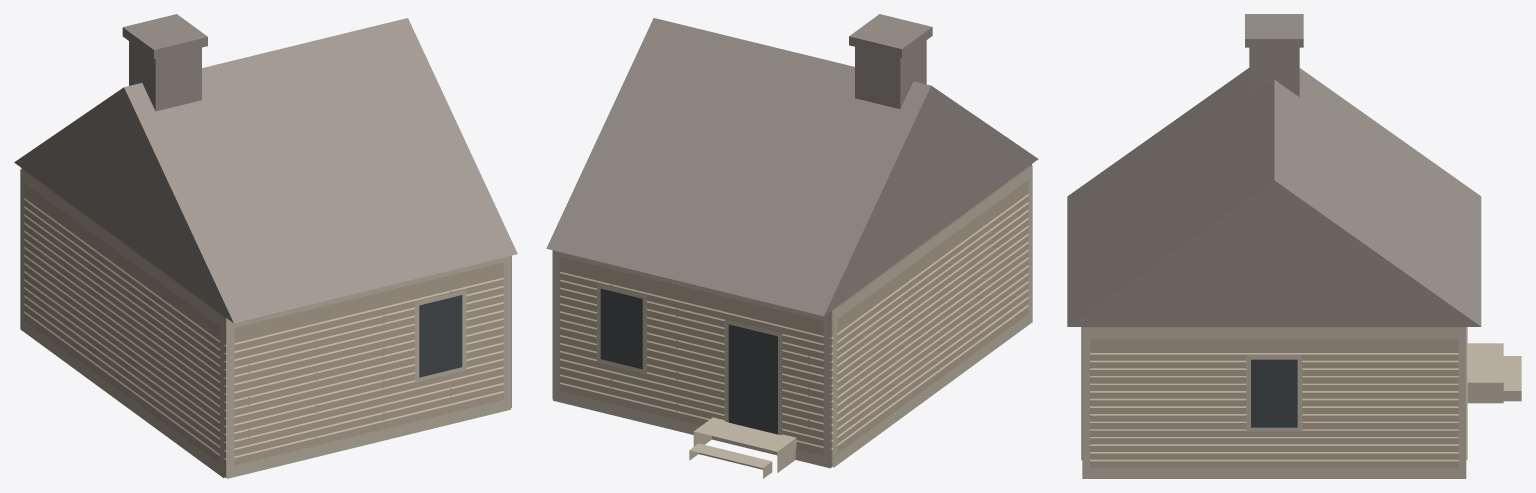
The model's file is recon_1835_south_d3_017__inferred_1835.glb.
3 renders of one model, left to right at view 1: azimuth 30°, elevation 25°; view 2: azimuth 150°, elevation 25°; view 3: azimuth 270°, elevation 25°, orthographic. The views are drawn at different scales.
Visible parts, largest first — view 1: recon_1835_south_d3_017__inferred_1835; view 2: recon_1835_south_d3_017__inferred_1835; view 3: recon_1835_south_d3_017__inferred_1835.
Boxes of the visible parts, bbox=[...] form: recon_1835_south_d3_017__inferred_1835: bbox=[14, 14, 517, 478]; recon_1835_south_d3_017__inferred_1835: bbox=[546, 14, 1038, 478]; recon_1835_south_d3_017__inferred_1835: bbox=[1067, 14, 1521, 478].
Size of the model in its own units: 5.22 by 6.26 by 7.57.
